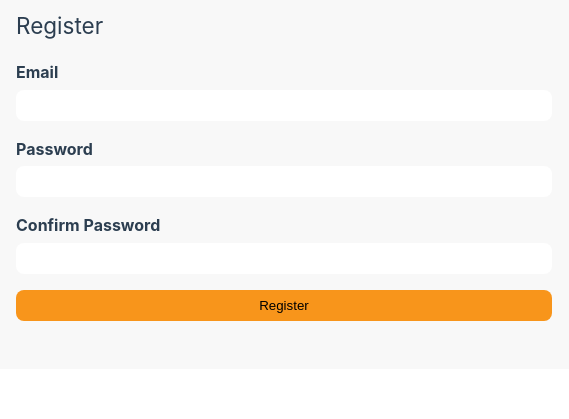
RegisterForm › should display error message if submitted with no email
This screenshot has width=569, height=419.
Click the button "Register": (284, 305) [16,290,552,321]
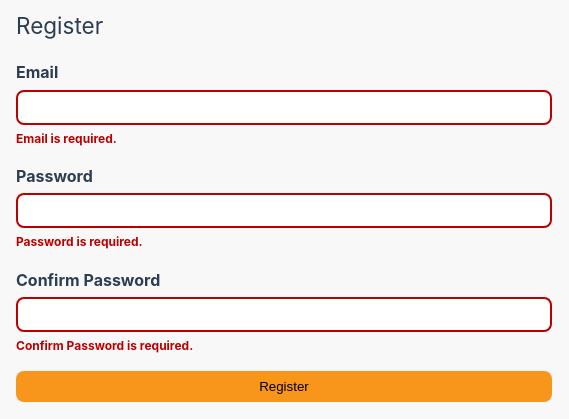
Check: the text "Email is required." is shown, box [16,131,117,146]
